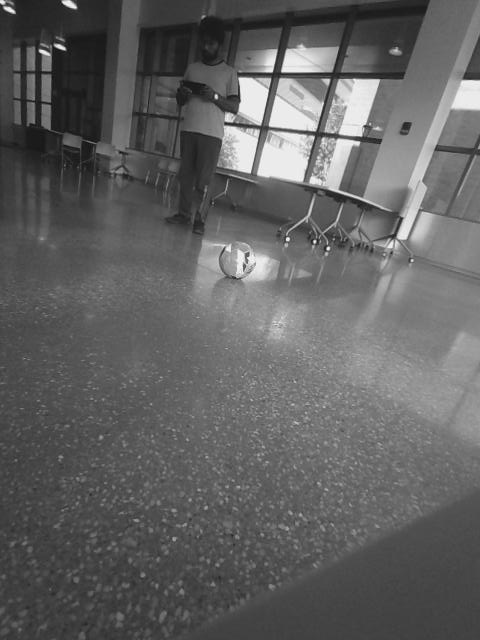ball: (217, 240, 258, 280)
